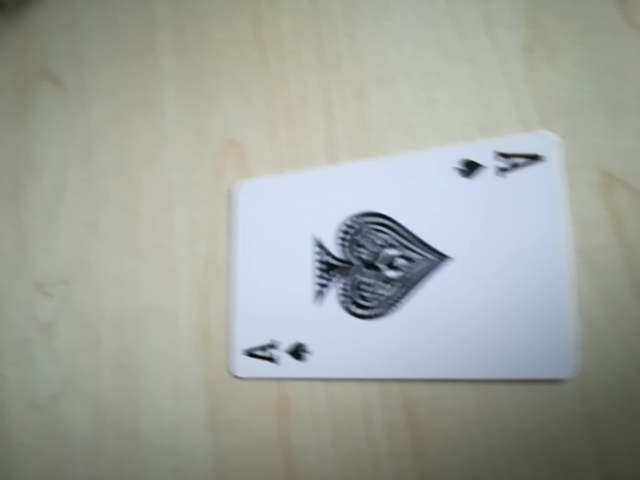ht a: (448, 142, 551, 191), (236, 332, 316, 373)
